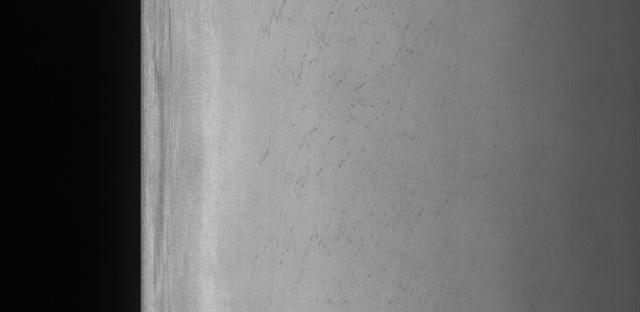silk_spot: (250, 5, 444, 289)
